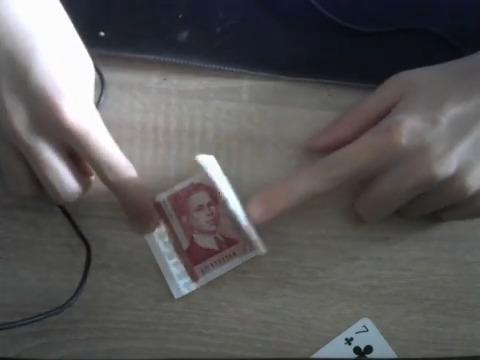5leva: (154, 154, 264, 296)
